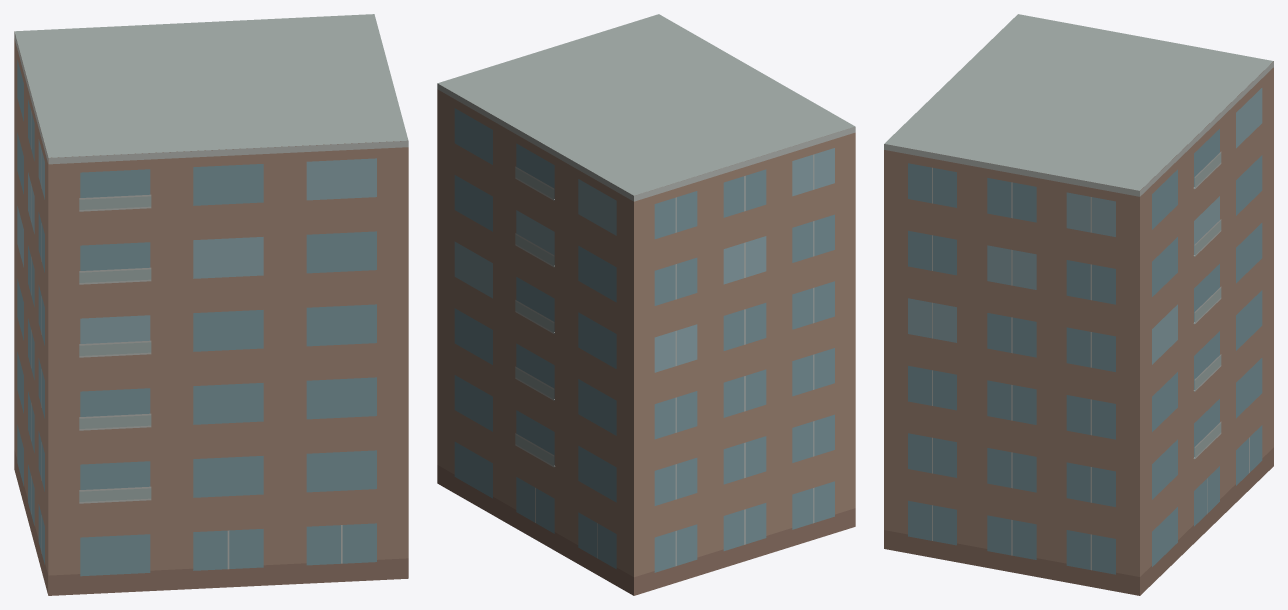
Rendered from survey-upis-33046945.glb.
The picture shows the model from 3 angles, left to right: view 1: azimuth 30°, elevation 25°; view 2: azimuth 150°, elevation 25°; view 3: azimuth 270°, elevation 25°; orthographic projection. The views are drawn at different scales.
Parts seen in each view (by area): view 1: survey-upis-33046945.tmp; view 2: survey-upis-33046945.tmp; view 3: survey-upis-33046945.tmp.
Boxes of the visible parts, box(x1,y1,x2,y2) form: survey-upis-33046945.tmp: box(14, 14, 408, 595); survey-upis-33046945.tmp: box(437, 14, 855, 595); survey-upis-33046945.tmp: box(884, 14, 1273, 595).
Bounding box in the file's own units: 15.46 × 16.5 × 14.4.
